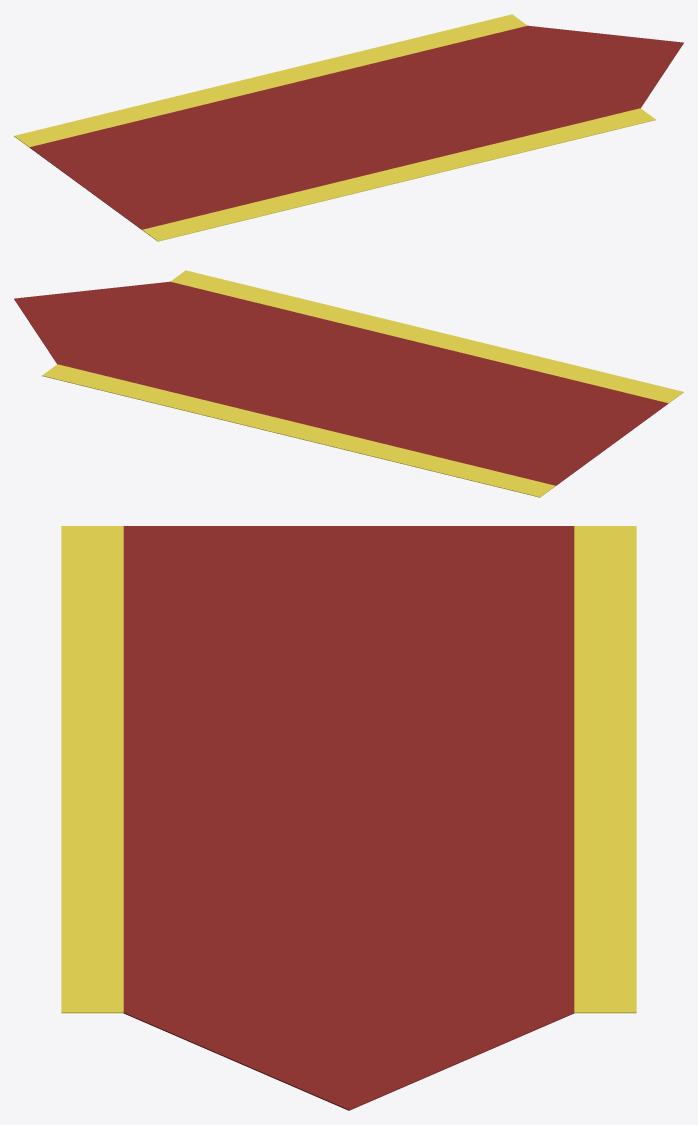
Rendered from Res01_Carpet02.fbx.
The picture shows the model from 3 angles, top to bottom: view 1: azimuth 30°, elevation 25°; view 2: azimuth 150°, elevation 25°; view 3: azimuth 270°, elevation 25°; orthographic projection. The views are drawn at different scales.
Visible parts, largest first — view 1: Res01_Carpet02; view 2: Res01_Carpet02; view 3: Res01_Carpet02.
Part boxes in pixels (bbox=[...]): Res01_Carpet02: bbox=[14, 14, 683, 241]; Res01_Carpet02: bbox=[14, 270, 683, 497]; Res01_Carpet02: bbox=[61, 526, 636, 1110].
Bounding box in the file's own units: 1200 × 1 × 500.
